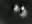person: (21, 7, 29, 19), (14, 5, 21, 14)
